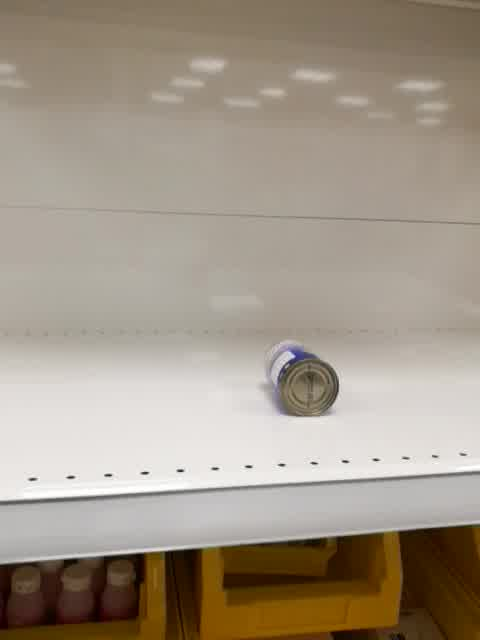sardine: (264, 338, 339, 417)
